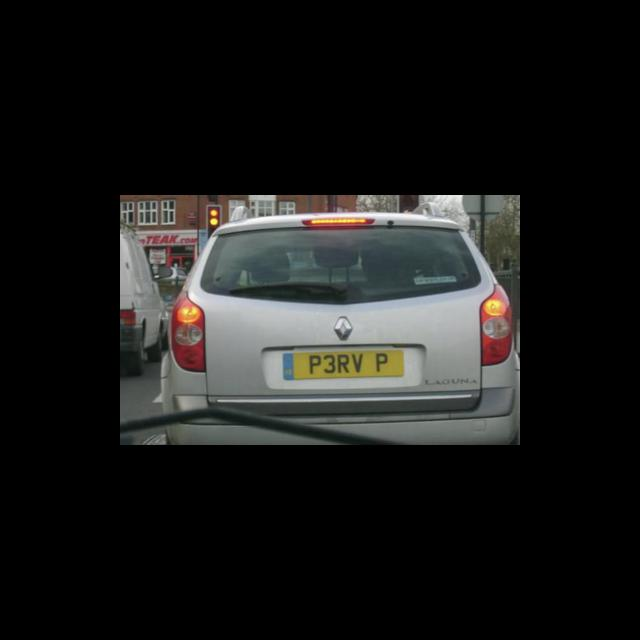Plate: (280, 349, 406, 380)
